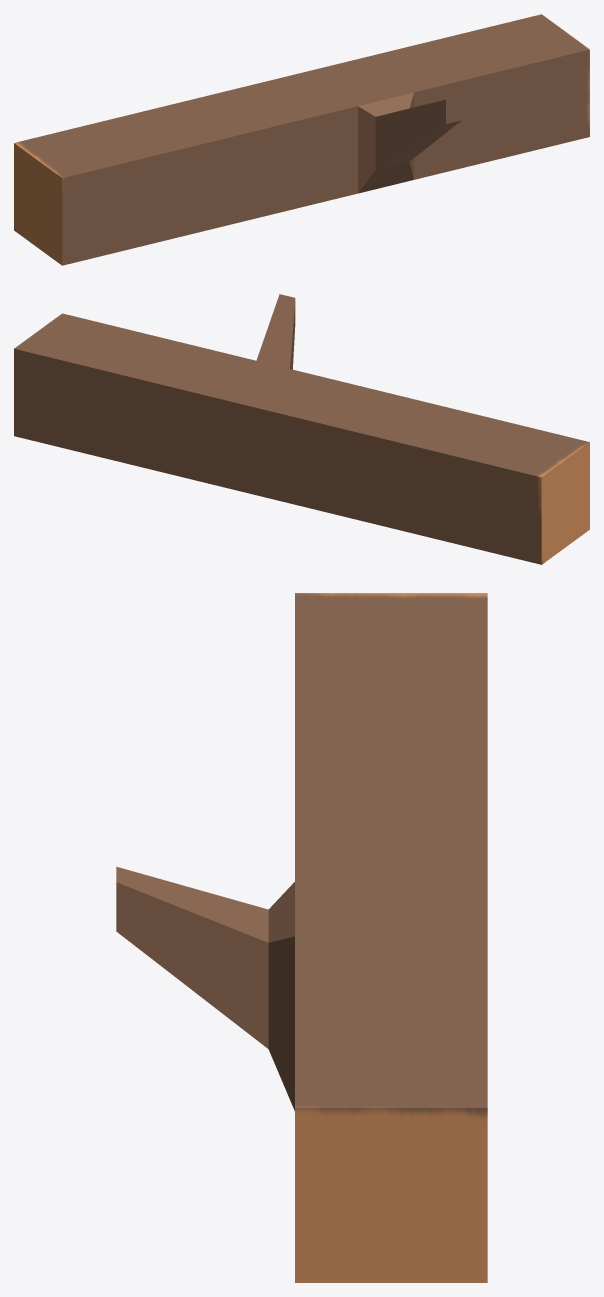
Rendered from scrap kayu.fbx.
3 views of the same model, one above another, from view 1: azimuth 30°, elevation 25°; view 2: azimuth 150°, elevation 25°; view 3: azimuth 270°, elevation 25° (orthographic). The views are drawn at different scales.
Visible parts, largest first — view 1: Cube.214; view 2: Cube.214; view 3: Cube.214.
Part boxes in pixels (bbox=[...]): Cube.214: bbox=[14, 14, 589, 265]; Cube.214: bbox=[14, 294, 589, 564]; Cube.214: bbox=[116, 593, 487, 1282].
Size of the model in its own units: 119 by 25.02 by 36.26.
